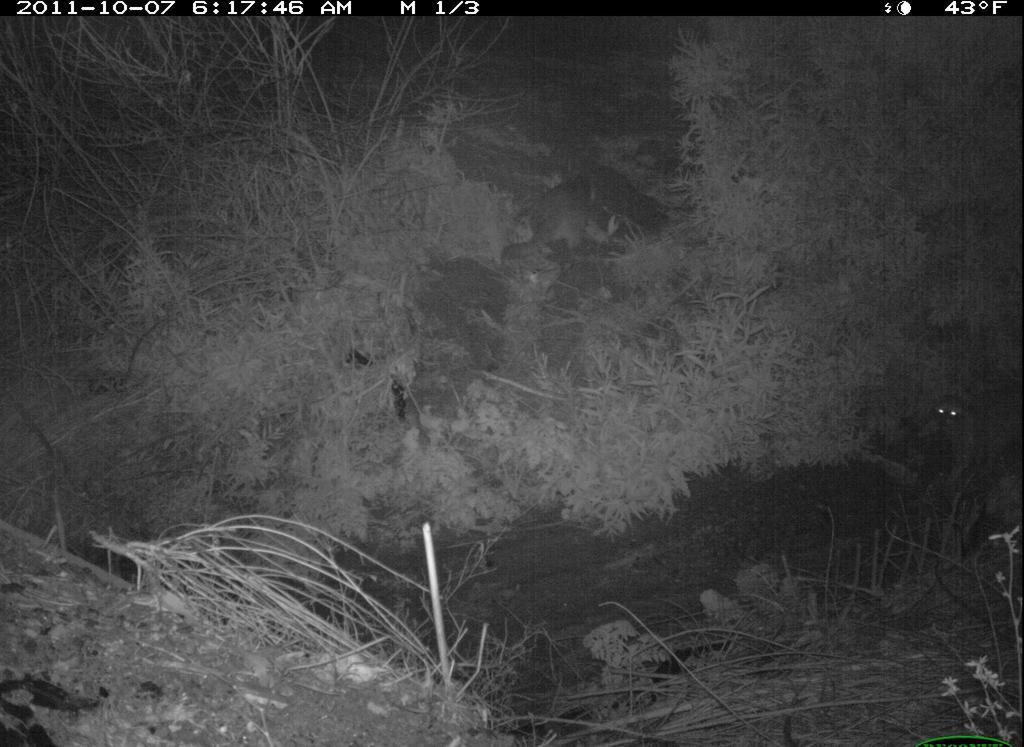raccoon: (495, 162, 625, 299), (912, 383, 1022, 489)
